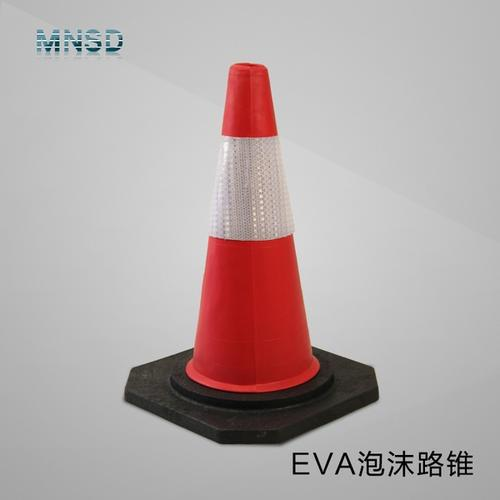cone_barrel: (168, 64, 333, 403)
